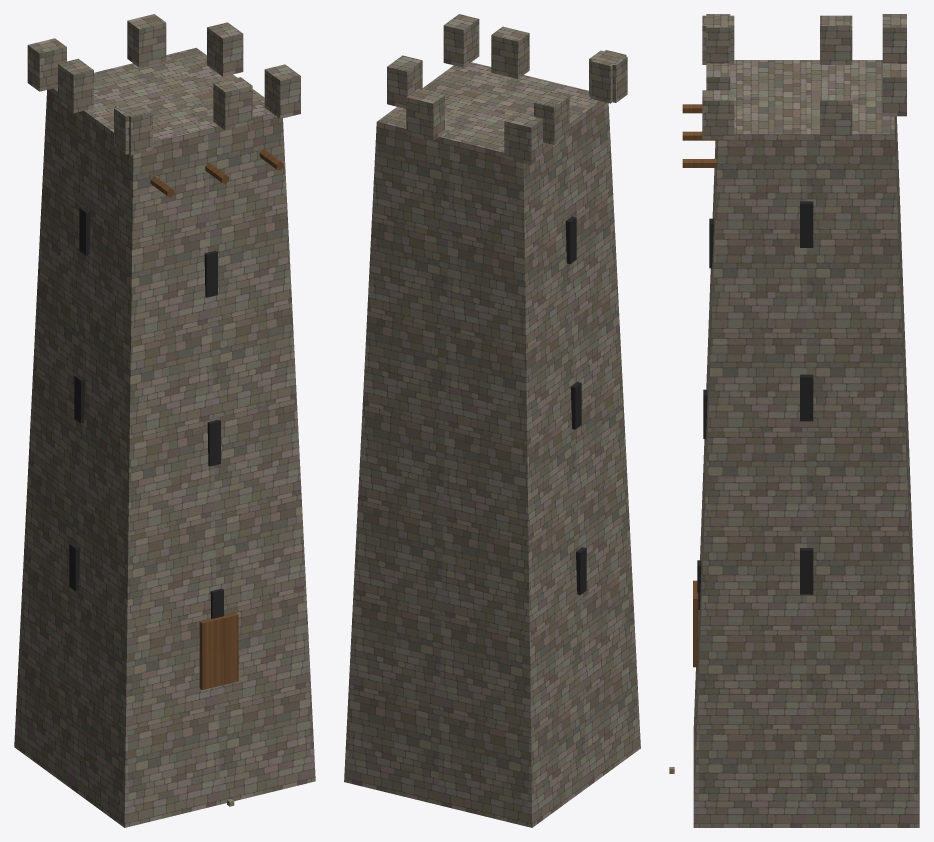
The model's file is watch_tower.glb.
The picture shows the model from 3 angles, left to right: view 1: azimuth 30°, elevation 25°; view 2: azimuth 150°, elevation 25°; view 3: azimuth 270°, elevation 25°; orthographic projection. The views are drawn at different scales.
Parts seen in each view (by area): view 1: Watch_Tower; view 2: Watch_Tower; view 3: Watch_Tower.
Boxes of the visible parts, x1=… form: Watch_Tower: x1=14, y1=14, x2=315, y2=827; Watch_Tower: x1=344, y1=14, x2=640, y2=827; Watch_Tower: x1=669, y1=14, x2=919, y2=827.
Size of the model in its own units: 4.2 by 14.8 by 4.65.
Materials: 4 (3 with a texture image).
